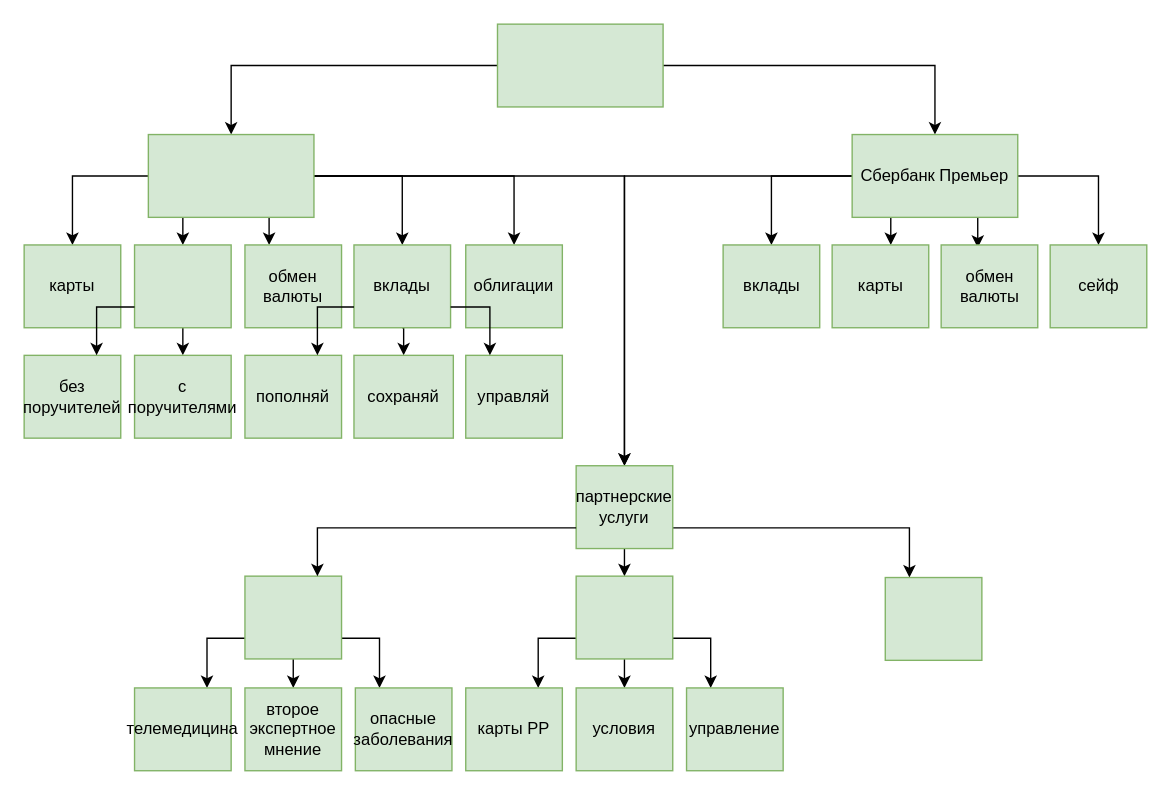
Some shapes in this 1172 by 795 pixel diagram are drawn without their labels. The centre of each missing label's shape, as x and y in pixels:
"кредиты" goes at pixel 182 286.
"медицинские услуги" goes at pixel 293 617.
"приорити пасс" goes at pixel 624 617.
"Сбербанк Первый" goes at pixel 230 175.
"Сберта" goes at pixel 579 65.
"страховка" goes at pixel 933 618.
